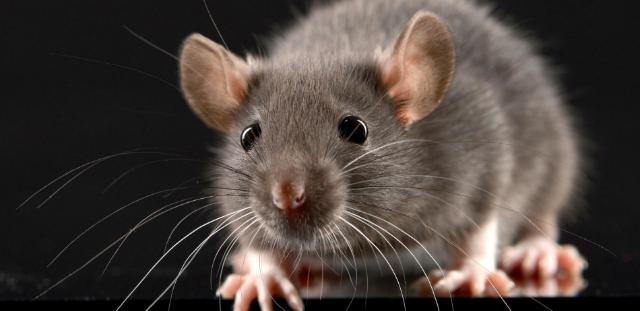rat: (166, 3, 488, 310)
